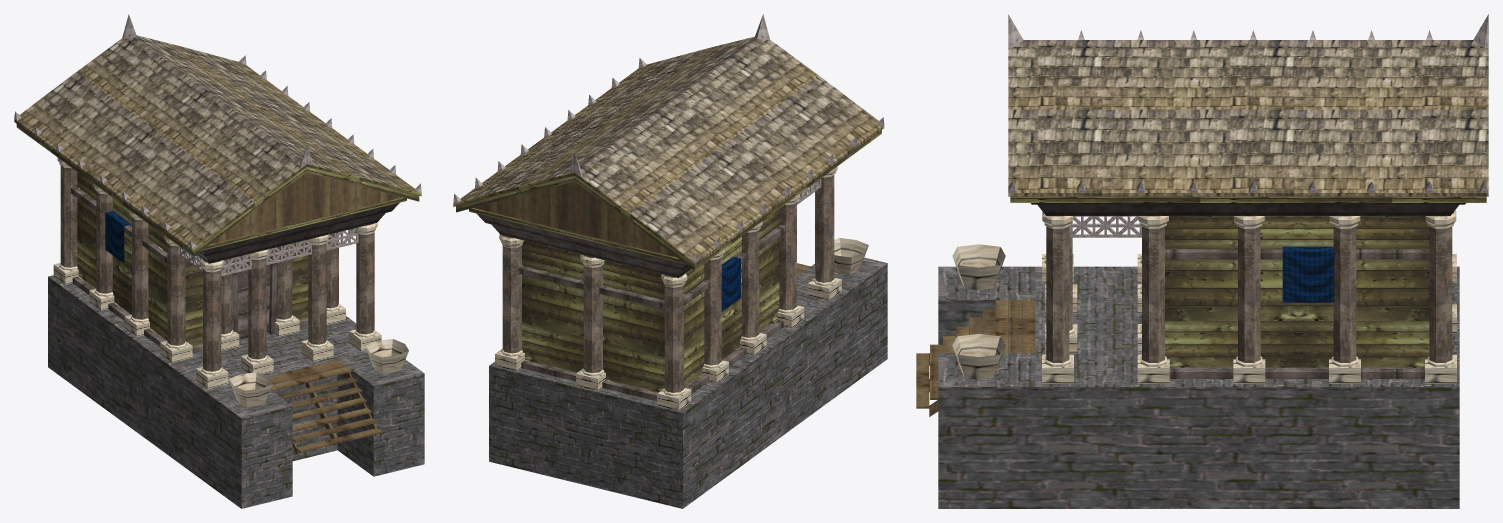
File: temple.dae
3 renders of one model, left to right at view 1: azimuth 30°, elevation 25°; view 2: azimuth 150°, elevation 25°; view 3: azimuth 270°, elevation 25°, orthographic. The views are drawn at different scales.
Parts seen in each view (by area): view 1: temple; view 2: temple; view 3: temple.
Part boxes in pixels (x1,y1,x2,y2): temple: (14,14,424,508); temple: (453,14,887,508); temple: (916,14,1488,508).
Bounding box in the file's own units: 19.83 × 31.66 × 26.55.
